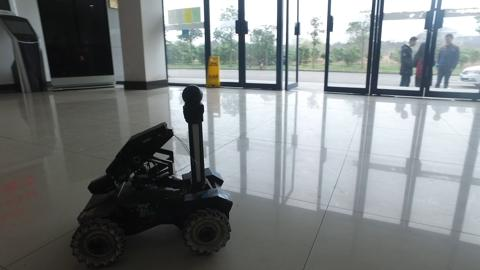chariot: (52, 74, 245, 270)
